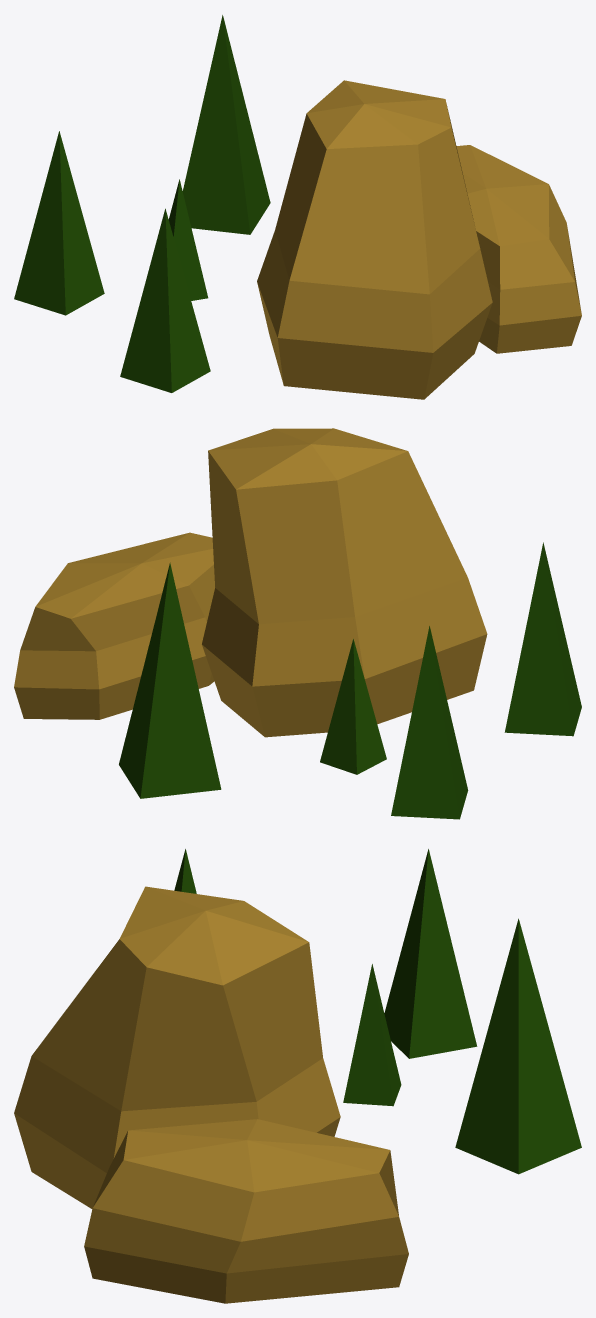
Rendered from Hex_dec_midrocks.fbx.
3 renders of one model, top to bottom at view 1: azimuth 30°, elevation 25°; view 2: azimuth 150°, elevation 25°; view 3: azimuth 270°, elevation 25°, orthographic. The views are drawn at different scales.
Parts seen in each view (by area): view 1: pPyramid8; view 2: pPyramid8; view 3: pPyramid8.
Part boxes in pixels (bbox=[...]): pPyramid8: bbox=[14, 15, 581, 399]; pPyramid8: bbox=[14, 428, 581, 819]; pPyramid8: bbox=[14, 849, 581, 1303].
Bounding box in the file's own units: 3.41 × 1.74 × 3.17.
